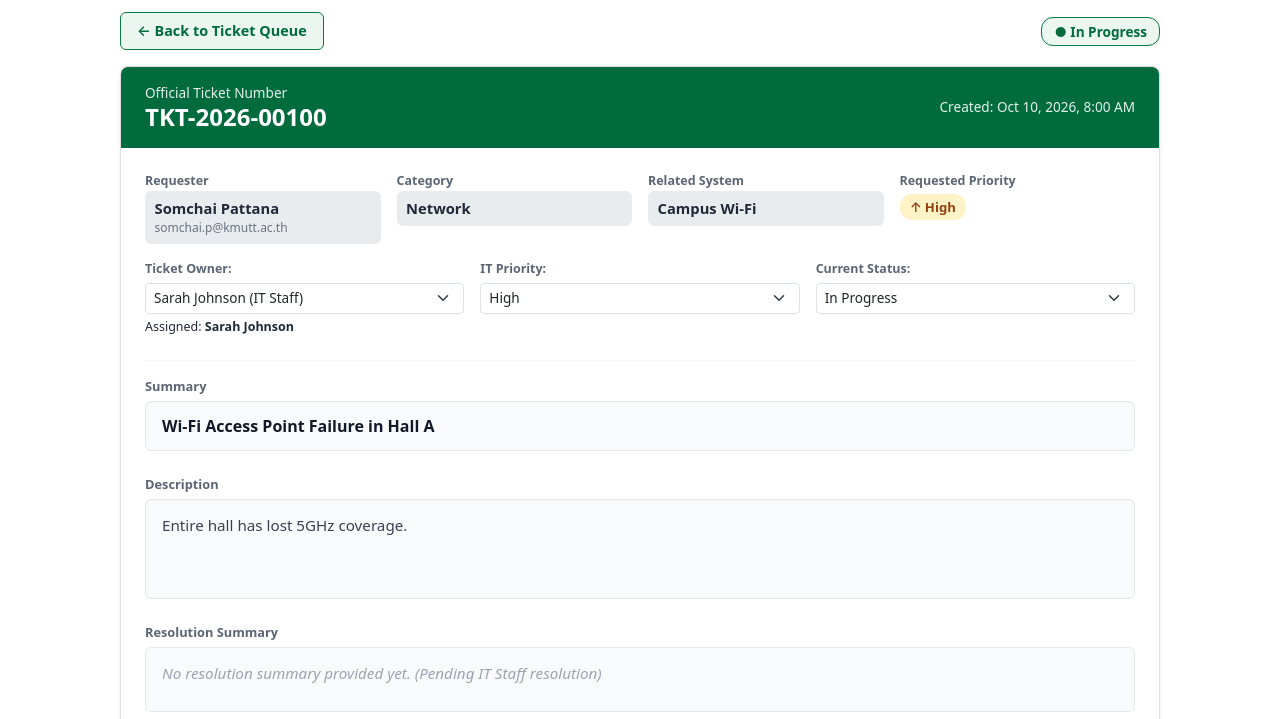
Scenario: Lab 4 Ticket Workflow & Resolution Gate UI Component Tests (Feature-14) › Resolution Gate UI & Validation › displays resolution gate warning banner and disables Confirm Resolve button when ticket has 0 Actions Taken
Step 1. Select "Resolved" in the dropdown labelled "Current Status:" → (975, 298), box [816,283,1135,314]
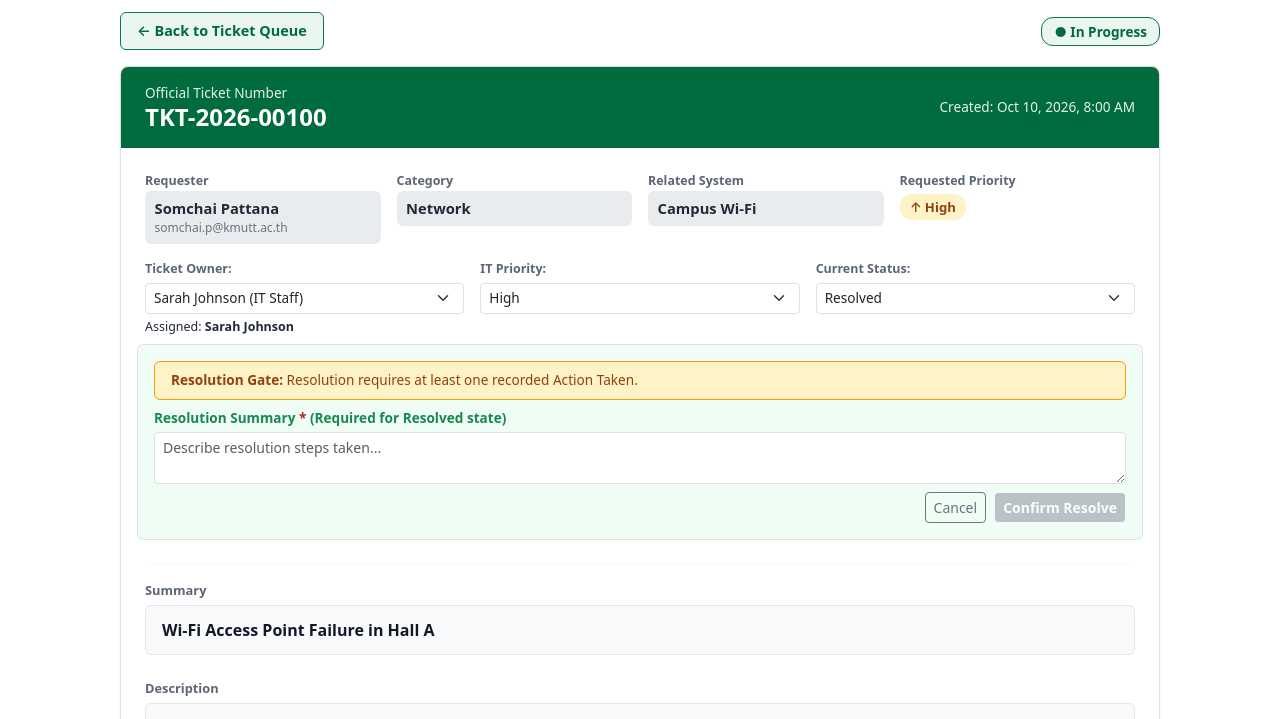
expect the message "Resolution Gate: Resolution requires at least one recorded Action Taken." is shown: met, box [154,361,1126,400]
expect the message with id "resolution-gate-warning" shows "Resolution requires at least one recorded Action Taken": met, box [283,370,638,389]
expect the button "Confirm Resolve" is disabled: met, box [994,492,1126,523]
